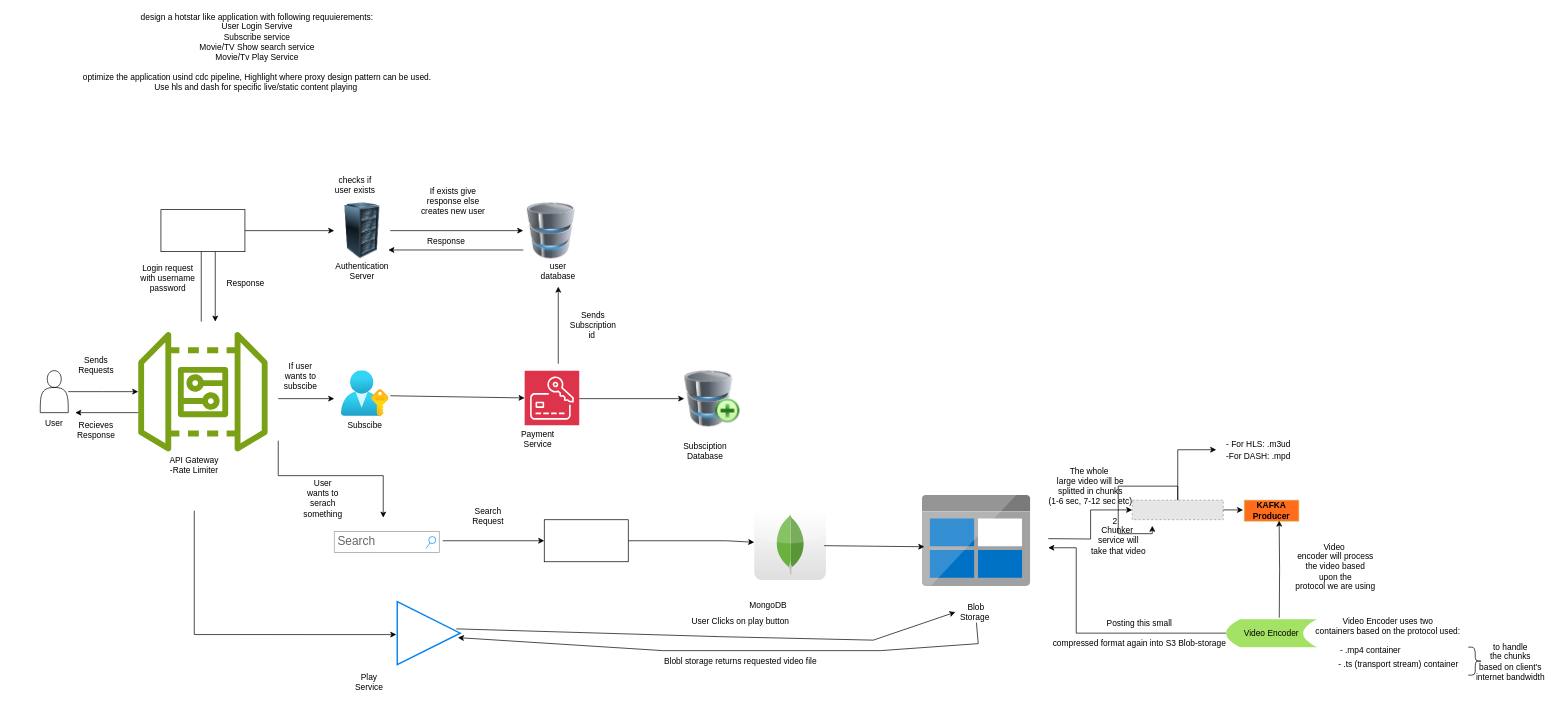
The diagram is 1564 pixels wide and 705 high, and some of its shapes have lost their labels. Grey dashed boxes stand in for pictures. Here are the shapes that lost their labels. From the top down, the centre of each, then its label:
At pixel 202 230: "User Service".
At pixel 586 540: "CDC Pipleline".
